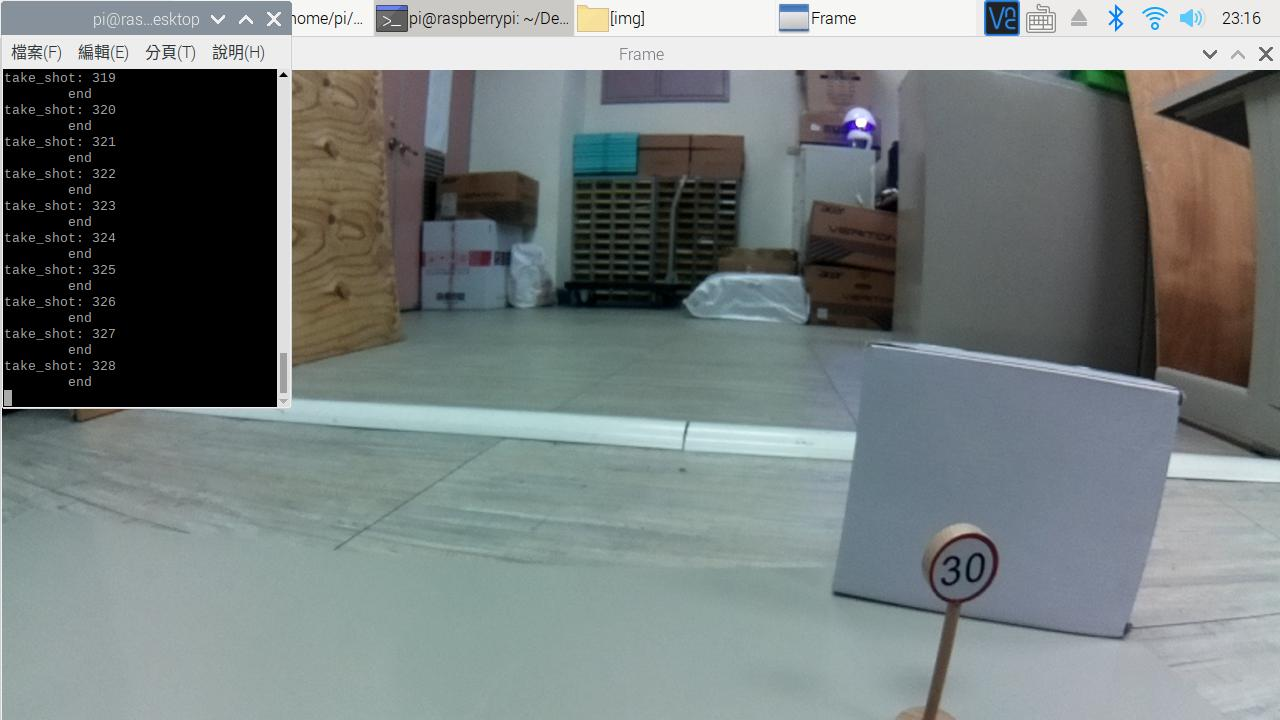Speed30: (922, 514, 1007, 617)
